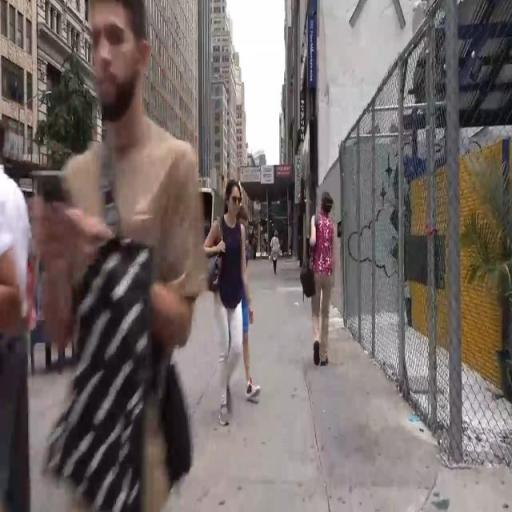person: (32, 1, 217, 512), (1, 138, 46, 512), (300, 183, 349, 376), (211, 178, 245, 437), (240, 206, 264, 420), (270, 227, 286, 289)
